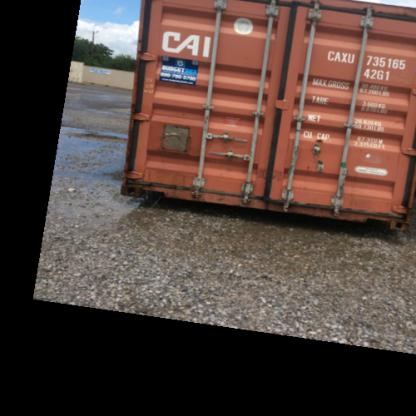Damage: (125, 168, 256, 209), (276, 199, 407, 232), (257, 164, 285, 184)
